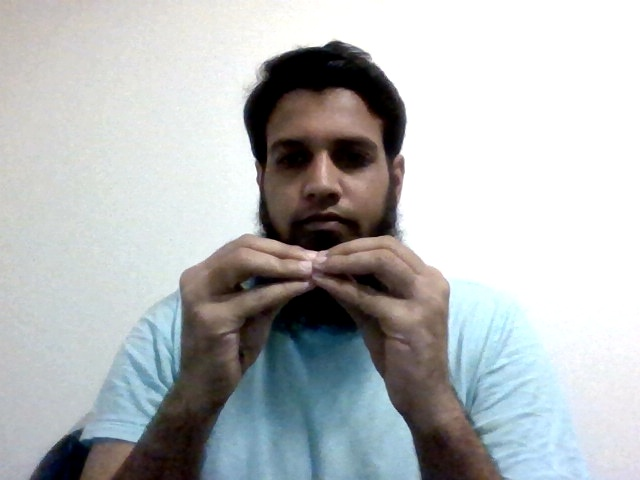more: (177, 231, 454, 412)
